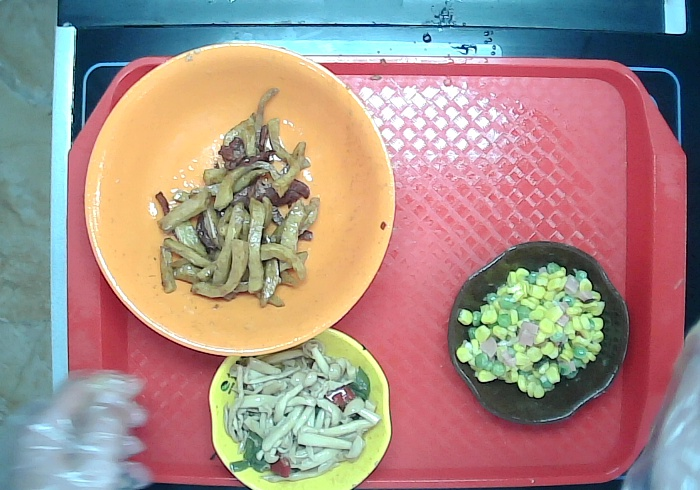YKMZ-Huang_Se_Ao_Bian_Wan: (199, 314, 394, 490)
YKMZ-Ju_Se_Tang_Wan: (72, 32, 400, 360)
YKMZ-Ka_Fei_Ao_Bian_Wan: (436, 225, 635, 431)
